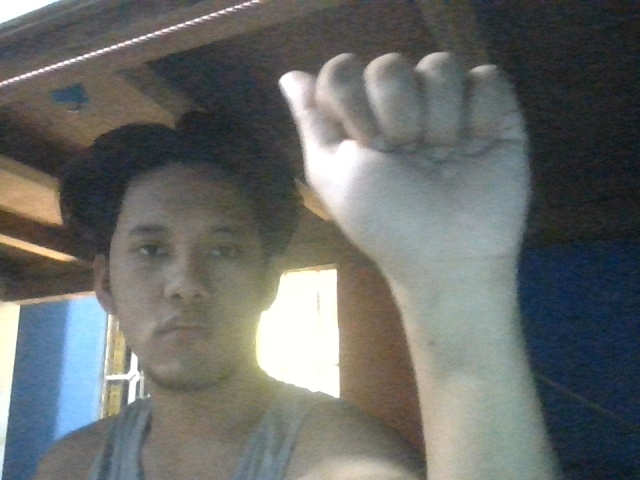A: (248, 40, 572, 323)
